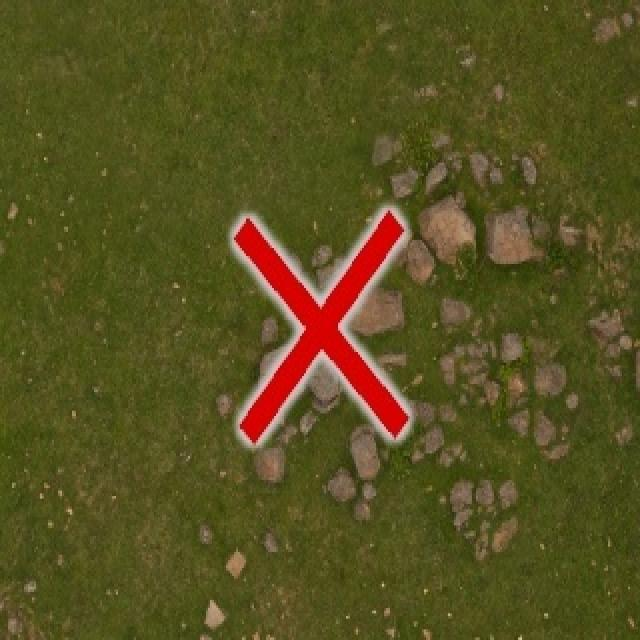x_marker: (233, 209, 407, 442)
